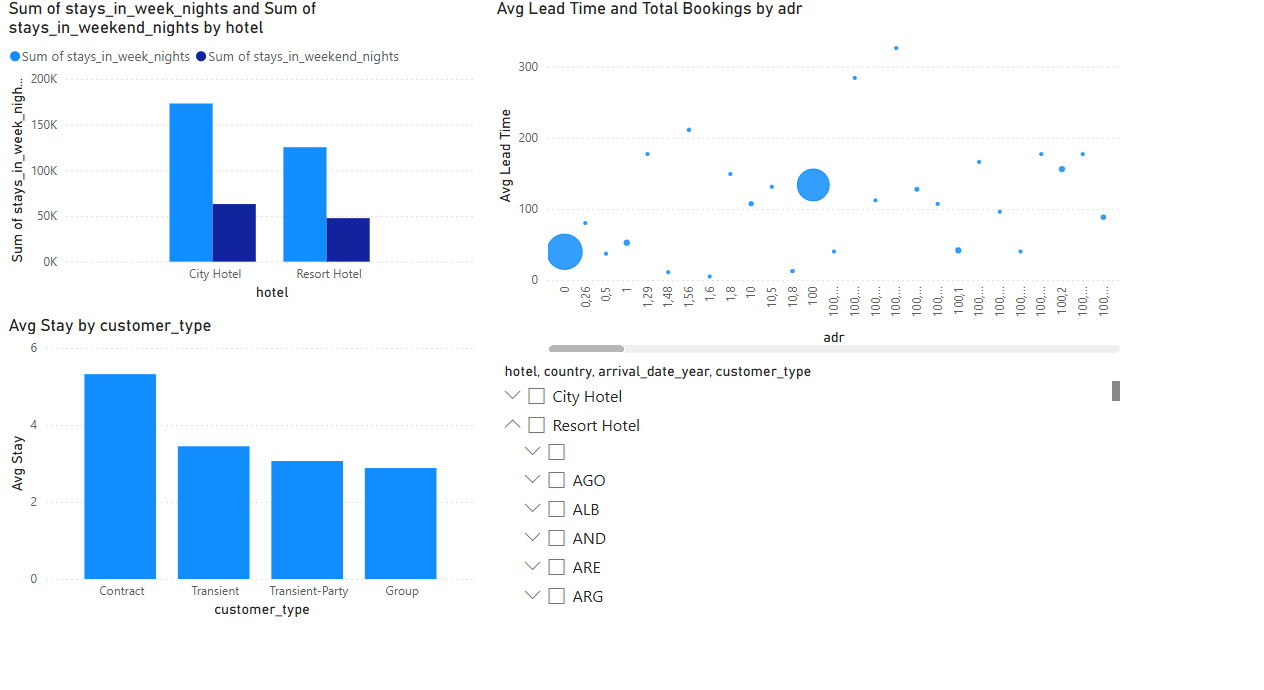

What the dashboard file says about the page in this screenshot:
{"tool":"powerbi","page":{"name":"Page 2","canvas":[1280,720],"ordinal":1},"visuals":[{"type":"clusteredColumnChart","fields":{"Category":["hotel_booking_clean33.hotel"],"Y":["Sum(hotel_booking_clean33.stays_in_week_nights)","Sum(hotel_booking_clean33.stays_in_weekend_nights)"]},"box":[10,0,478,307],"z":0},{"type":"columnChart","fields":{"Y":["Measures 2.Avg Stay"],"Category":["hotel_booking_clean33.customer_type"]},"box":[10,317,478,307],"z":1},{"type":"scatterChart","fields":{"Size":["hotel_booking_clean33.Total Bookings"],"Y":["Measures 2.Avg Lead Time"],"X":["hotel_booking_clean33.adr"]},"box":[498,0,633.2,359.9],"z":2},{"type":"slicer","fields":{"Values":["hotel_booking_clean33.hotel","hotel_booking_clean33.country","hotel_booking_clean33.arrival_date_year","hotel_booking_clean33.customer_type"]},"box":[498,360,633,264],"z":3}]}

Visuals, with their boxes on the page's 1280x720 design canvas (x1, y1, x2, y2). These are canvas units, not pixel positions in the 1264x690 screenshot, which may show the page scaled, cropped or inside an application window:
clusteredColumnChart - hotel_booking_clean33.hotel x Sum(hotel_booking_clean33.stays_in_week_nights): x1=10, y1=0, x2=488, y2=307
columnChart - Measures 2.Avg Stay x hotel_booking_clean33.customer_type: x1=10, y1=317, x2=488, y2=624
scatterChart - hotel_booking_clean33.Total Bookings x Measures 2.Avg Lead Time: x1=498, y1=0, x2=1131, y2=360
slicer - hotel_booking_clean33.hotel x hotel_booking_clean33.country: x1=498, y1=360, x2=1131, y2=624
